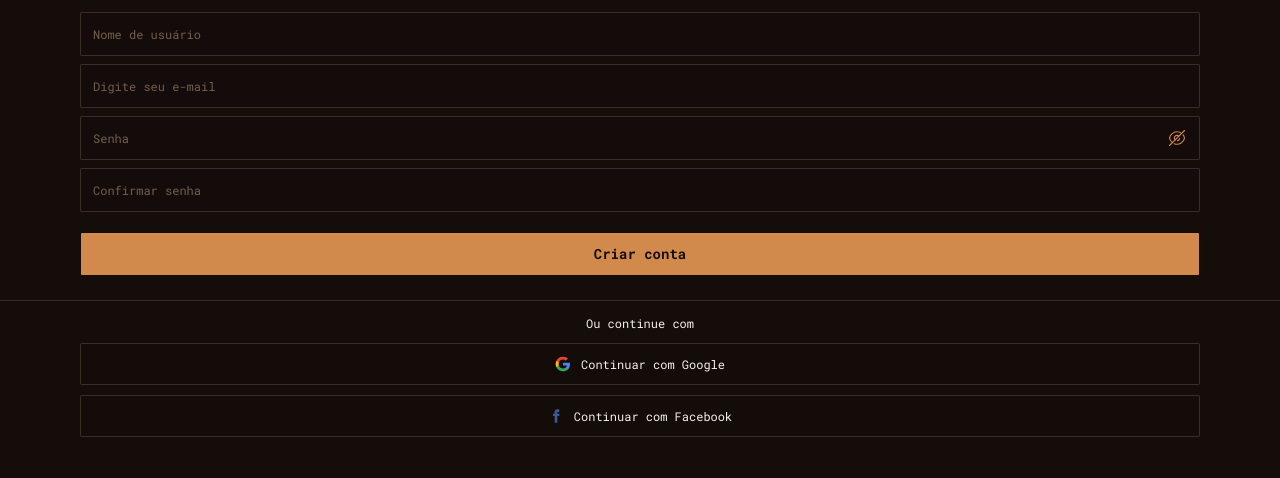
Scenario: SignupForm › remove o aviso depois de corrigir a confirmação
In the field labelled "Nome de usuário": (640, 34) [80,12,1200,56], type "ana"
In the field labelled "Digite seu e-mail": (640, 86) [80,64,1200,108], type "ana@email.com"
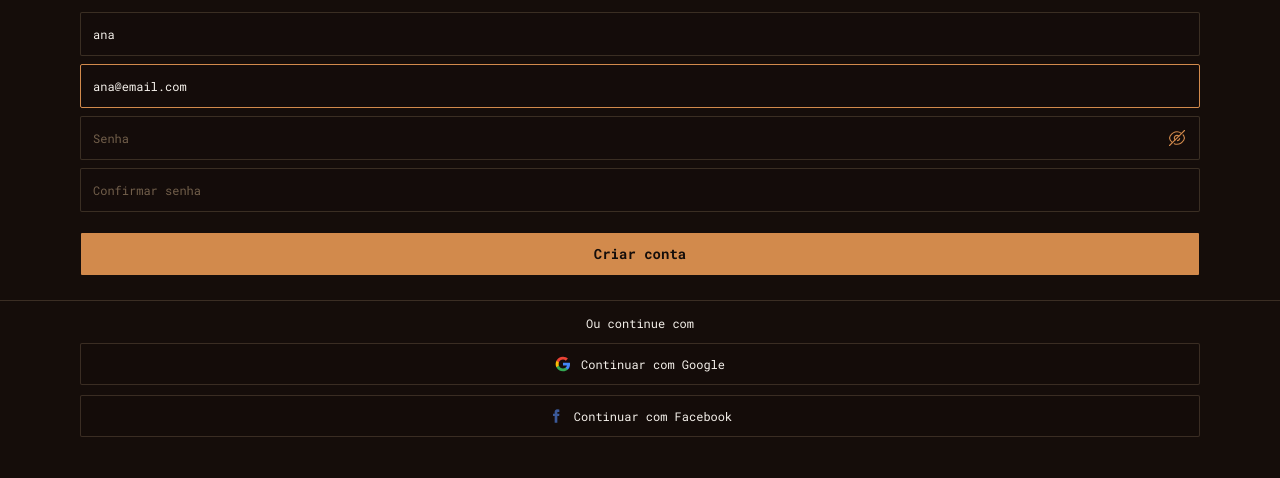
In the password field labelled "Senha": (640, 138) [80,116,1200,160], type "segredo123"
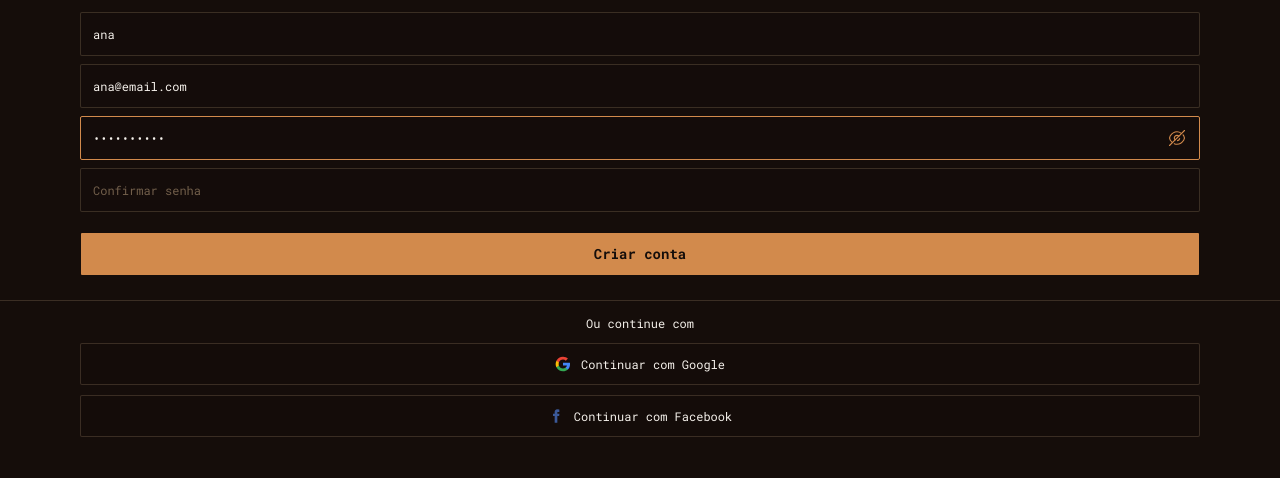
In the password field labelled "Confirmar senha": (640, 190) [80,168,1200,212], type "outra-senha1"
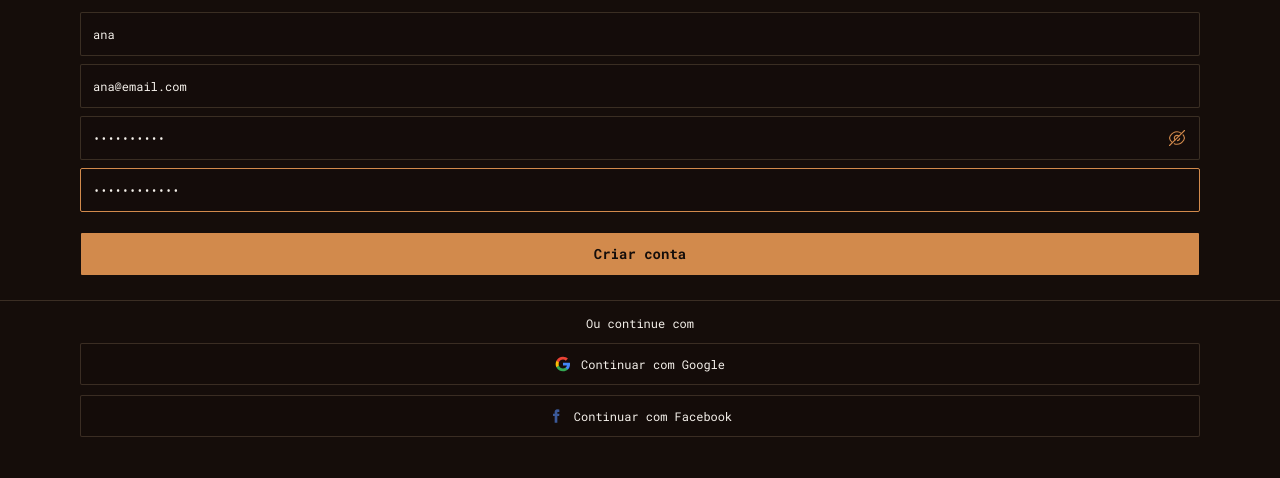
Click the button "Criar conta": (640, 254) [80,232,1200,276]
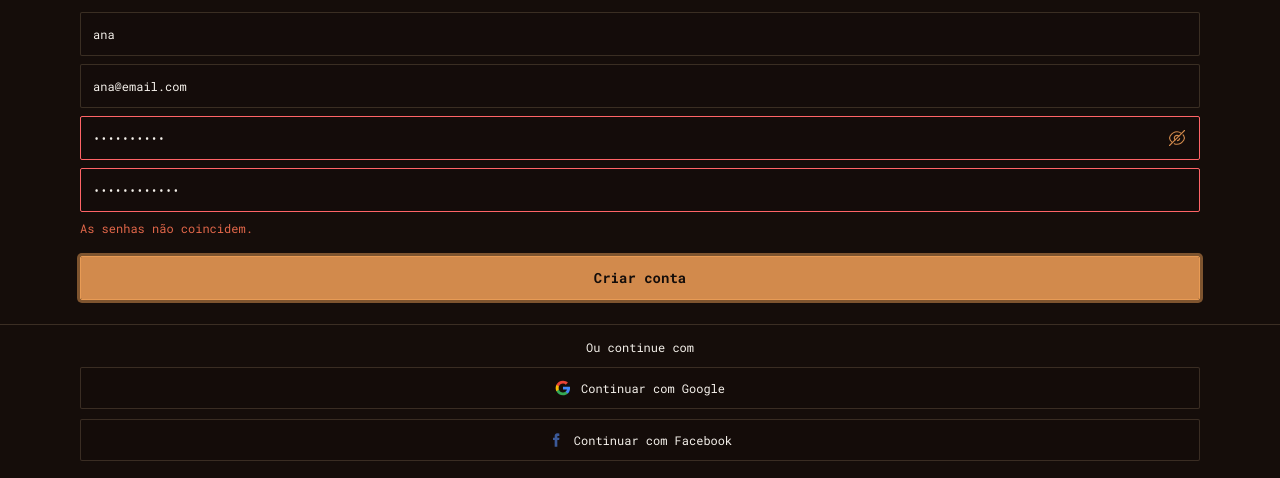
Result: the message "As senhas não coincidem." is shown at [80,220,253,236]
In the 2nd password field named "Confirmar senha": (640, 190) [80,168,1200,212], type "segredo123"
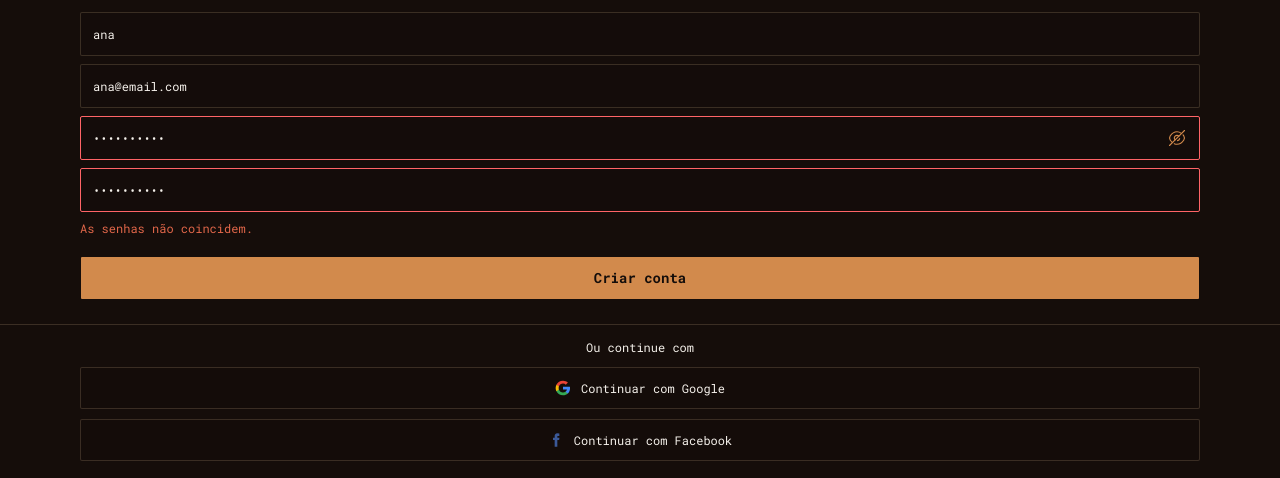
Click the button "Criar conta": (640, 278) [80,256,1200,300]
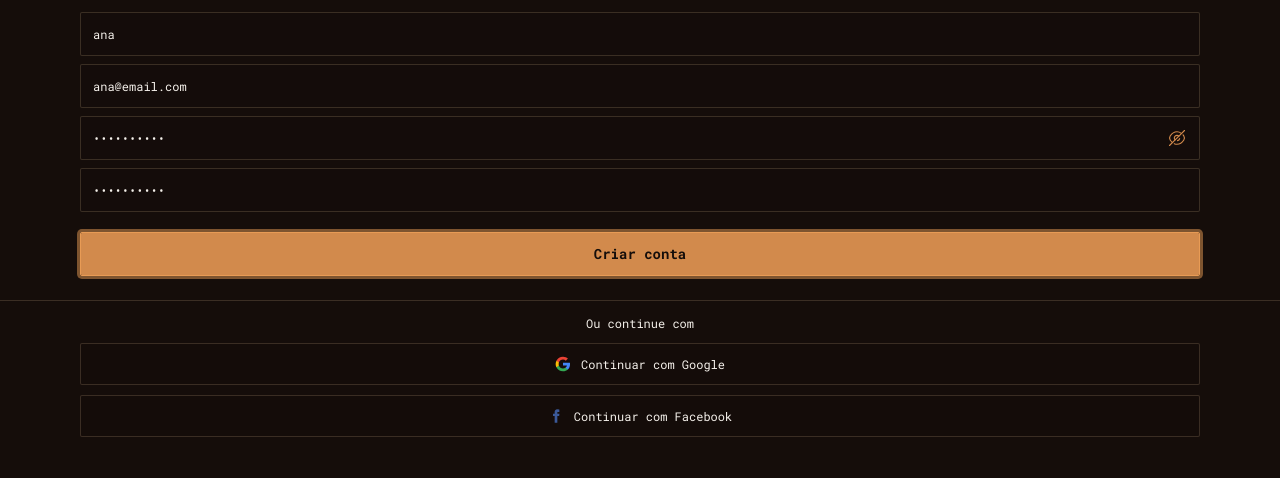
Result: the message "As senhas não coincidem." is gone
